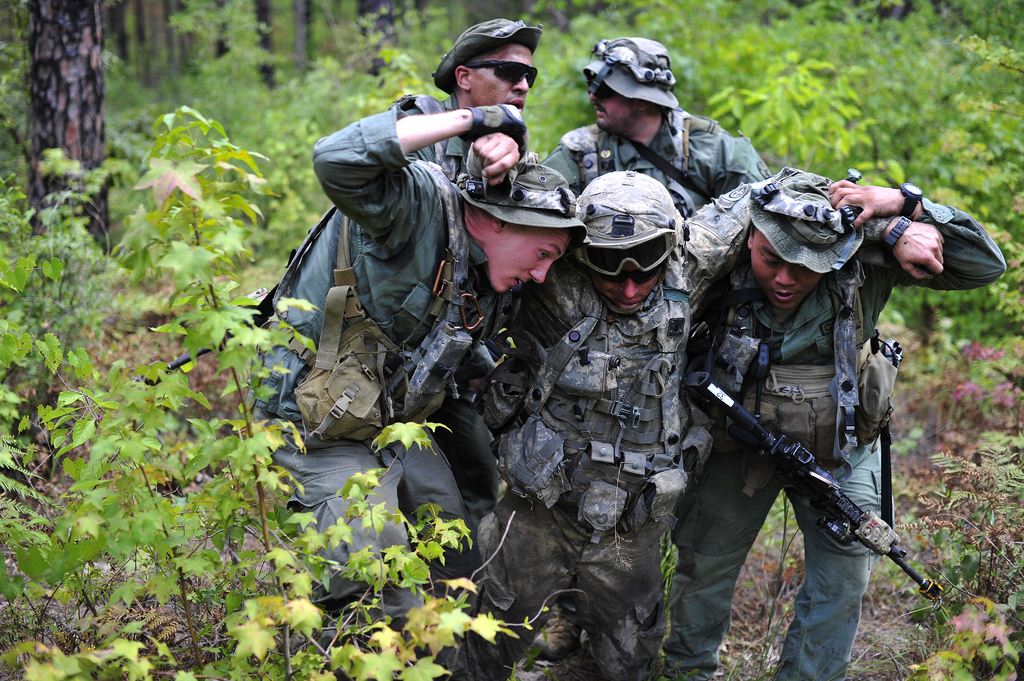Person: (461, 128, 943, 681), (240, 103, 589, 681), (673, 162, 1012, 681), (543, 35, 773, 217), (389, 17, 541, 186)
